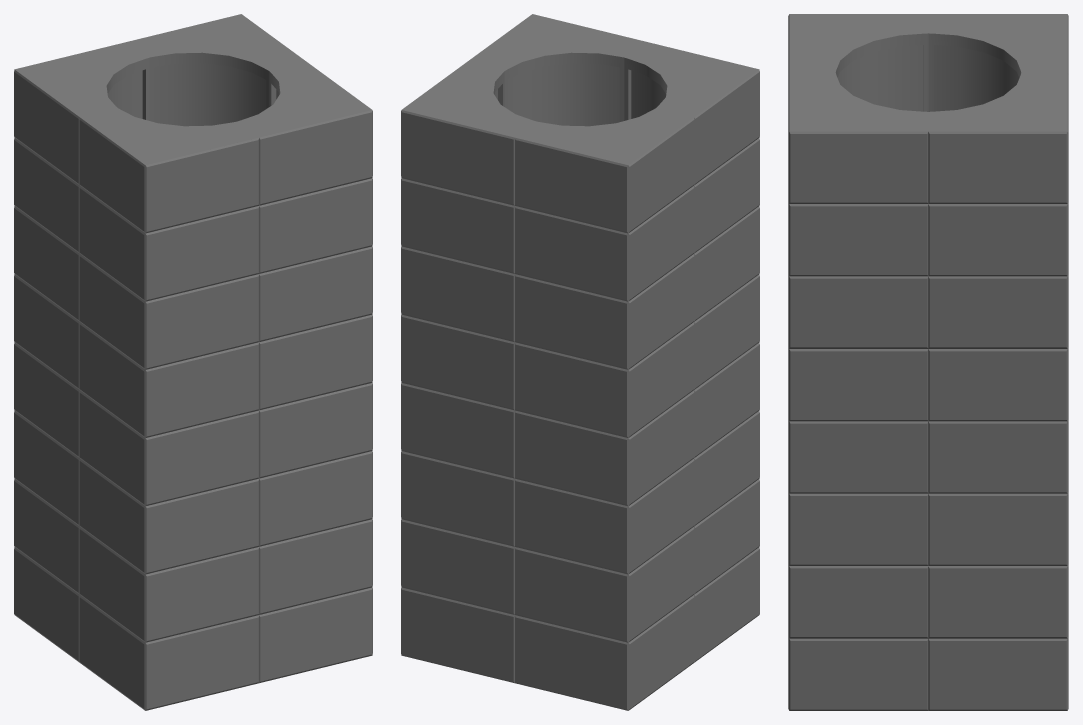
Rendered from tesla_structure_pillar_bg_02.dae.
3 renders of one model, left to right at view 1: azimuth 30°, elevation 25°; view 2: azimuth 150°, elevation 25°; view 3: azimuth 270°, elevation 25°, orthographic. The views are drawn at different scales.
Visible parts, largest first — view 1: polySurface8; view 2: polySurface8; view 3: polySurface8.
Part boxes in pixels (<box>): polySurface8: <box>14,14,372,710</box>; polySurface8: <box>401,14,759,710</box>; polySurface8: <box>788,14,1068,710</box>.
Bounding box in the file's own units: 27200 × 62197 × 27202.
